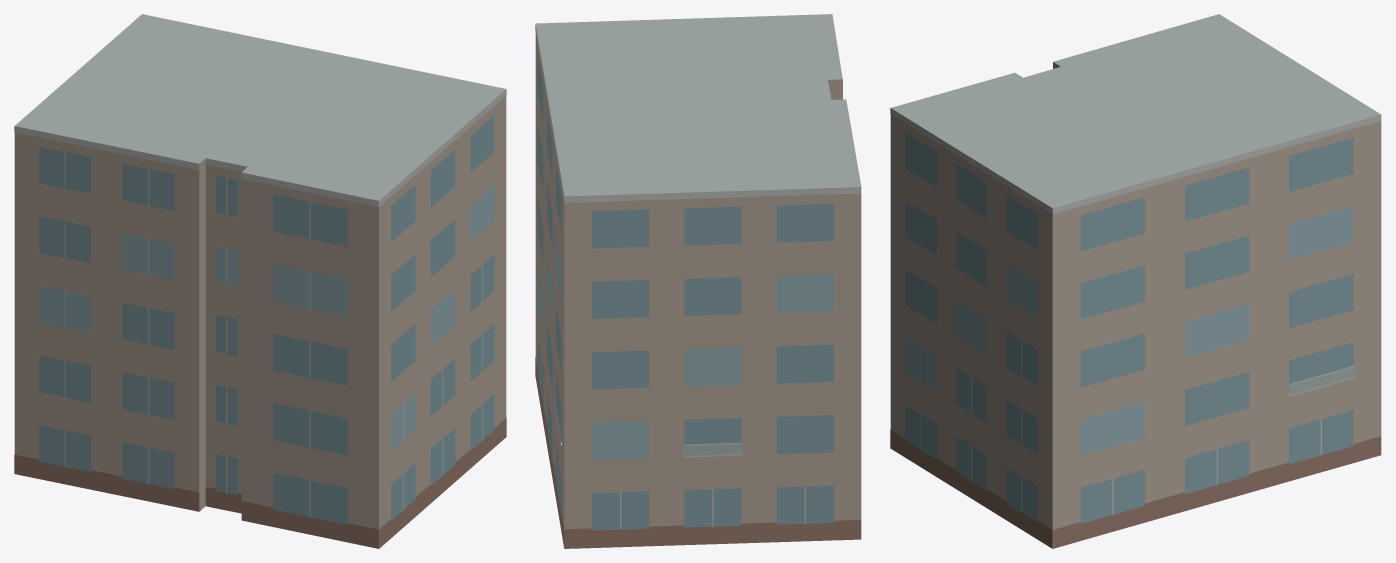
Rendered from survey-upis-32885085.glb.
3 renders of one model, left to right at view 1: azimuth 30°, elevation 25°; view 2: azimuth 150°, elevation 25°; view 3: azimuth 270°, elevation 25°, orthographic. The views are drawn at different scales.
Visible parts, largest first — view 1: survey-upis-32885085.tmp; view 2: survey-upis-32885085.tmp; view 3: survey-upis-32885085.tmp.
Part boxes in pixels (x1,y1,x2,y2): survey-upis-32885085.tmp: (14,14,506,548); survey-upis-32885085.tmp: (535,14,861,548); survey-upis-32885085.tmp: (890,14,1381,548).
Size of the model in its own units: 16.53 by 13.5 by 17.64.
